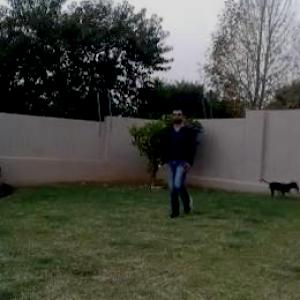follow: (163, 107, 194, 215)
